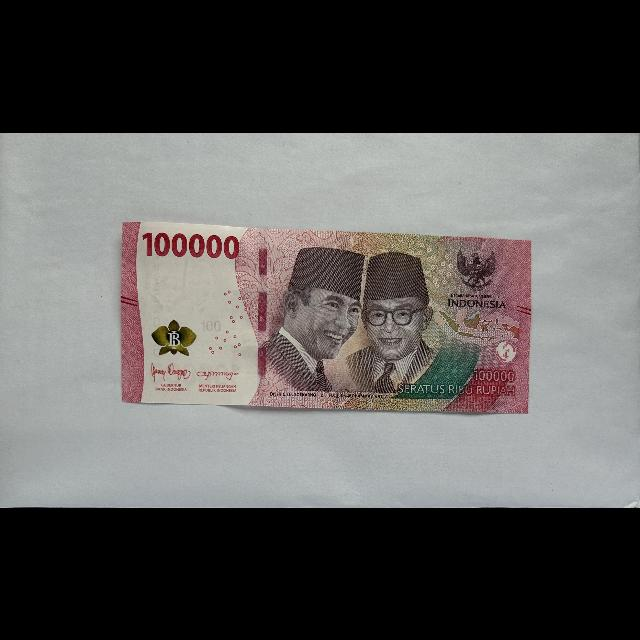Asli-100k: (120, 219, 532, 415)
Tinta-Asli-100k: (151, 318, 198, 357)
